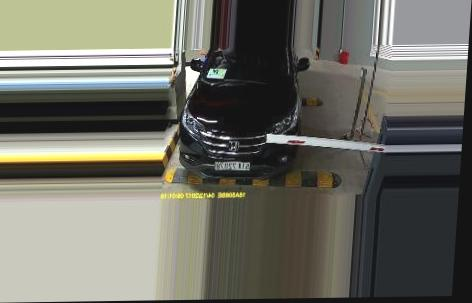License_Plate: (213, 160, 251, 173)
